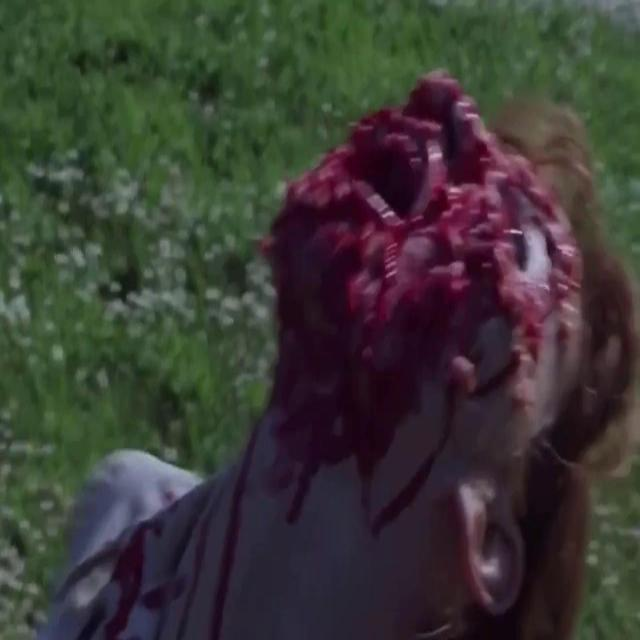flood: (271, 82, 569, 423)
